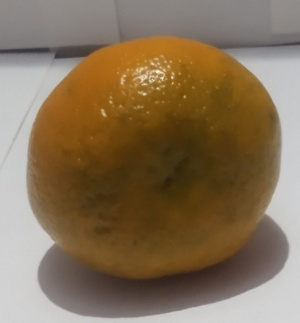BAD: (25, 30, 288, 283)
